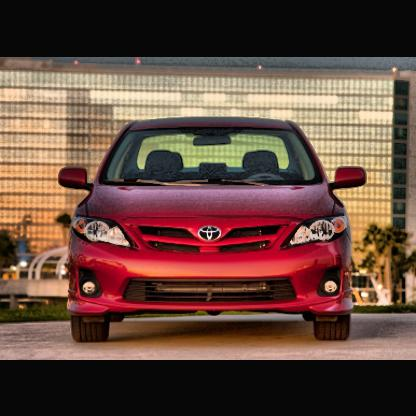Toyota Corolla Sedan 2012: (56, 113, 371, 342)
